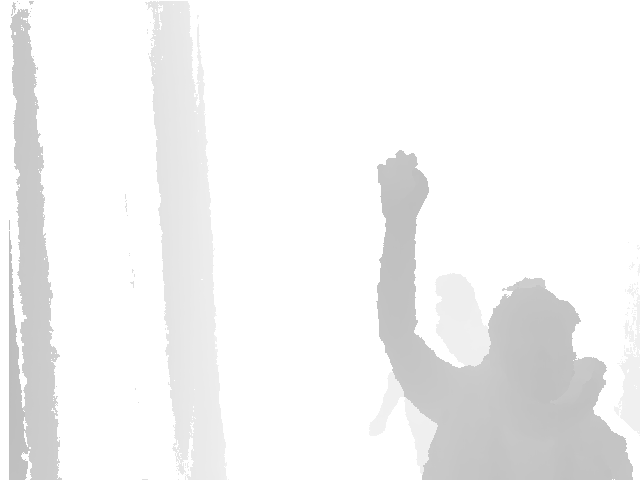hand: (377, 150, 430, 216)
head: (487, 278, 581, 400)
person: (377, 150, 640, 480)
